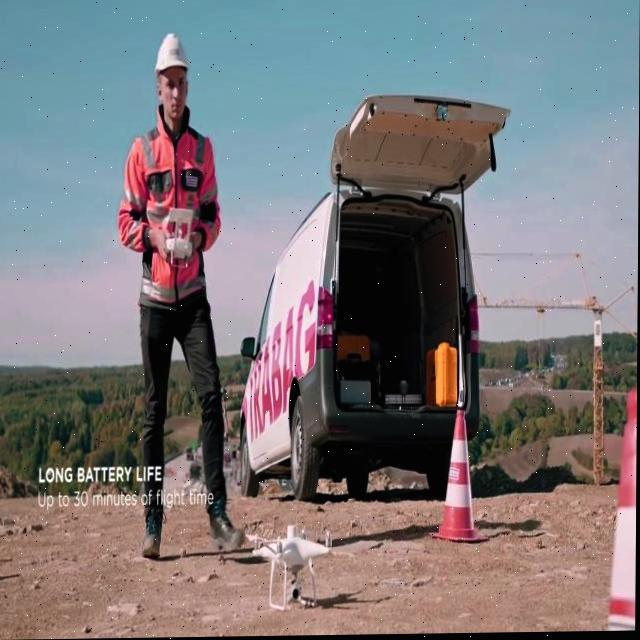drone: (243, 522, 334, 612)
